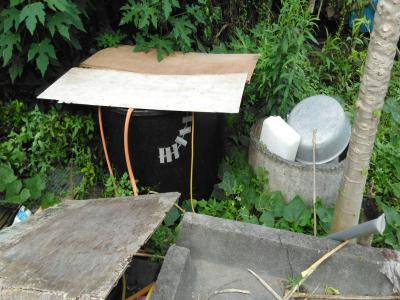bowl: (283, 91, 354, 168)
box: (260, 114, 302, 162)
bucket: (245, 116, 350, 214)
